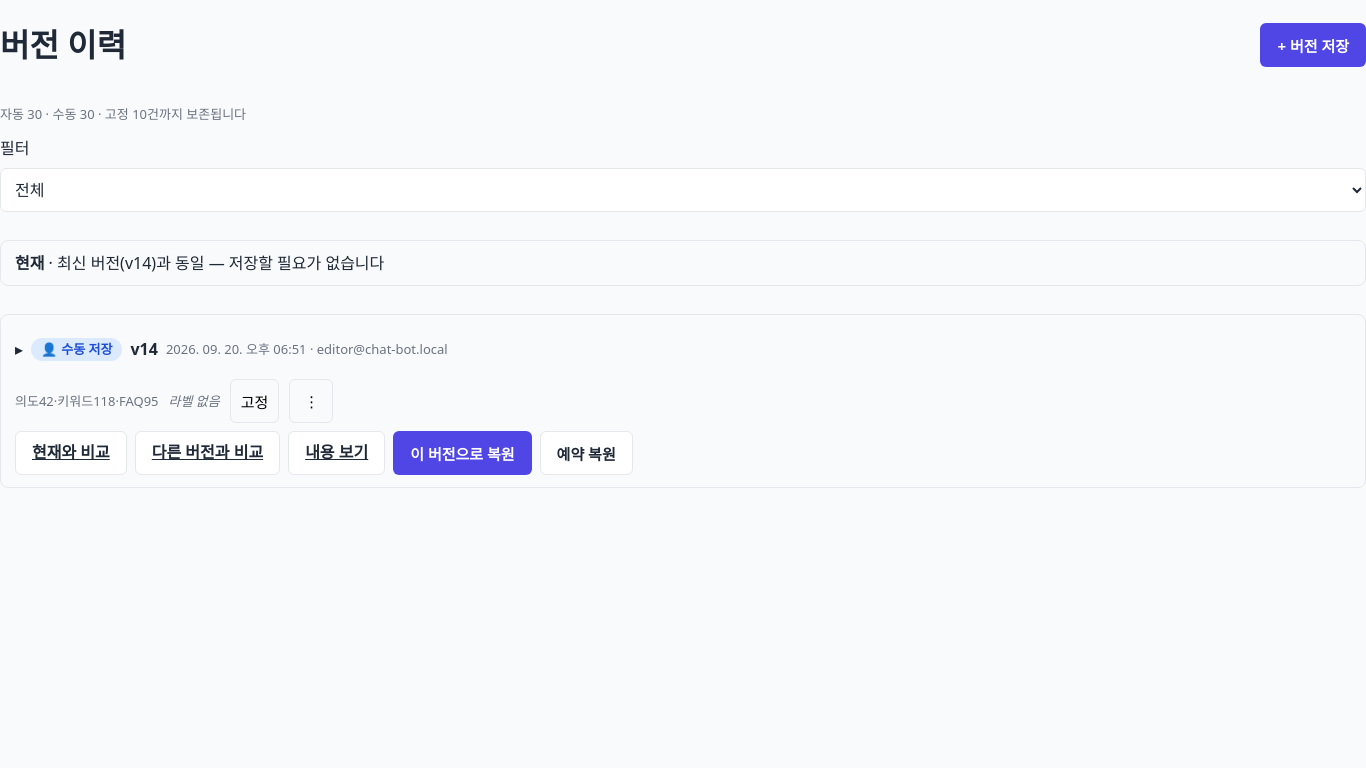
Test: VersionListPage › VERSION_REFERENCED_BY_SCHEDULE(409) — 삭제 시 참조 예약이 있으면 인라인 오류와 예약 배포 링크가 표시된다(No.28)
This screenshot has width=1366, height=768.
Expected: the text "v14" is shown, left=130, top=337, right=158, bottom=361
Click the button named "v14 관리" at (311, 401), box left=289, top=379, right=333, bottom=423
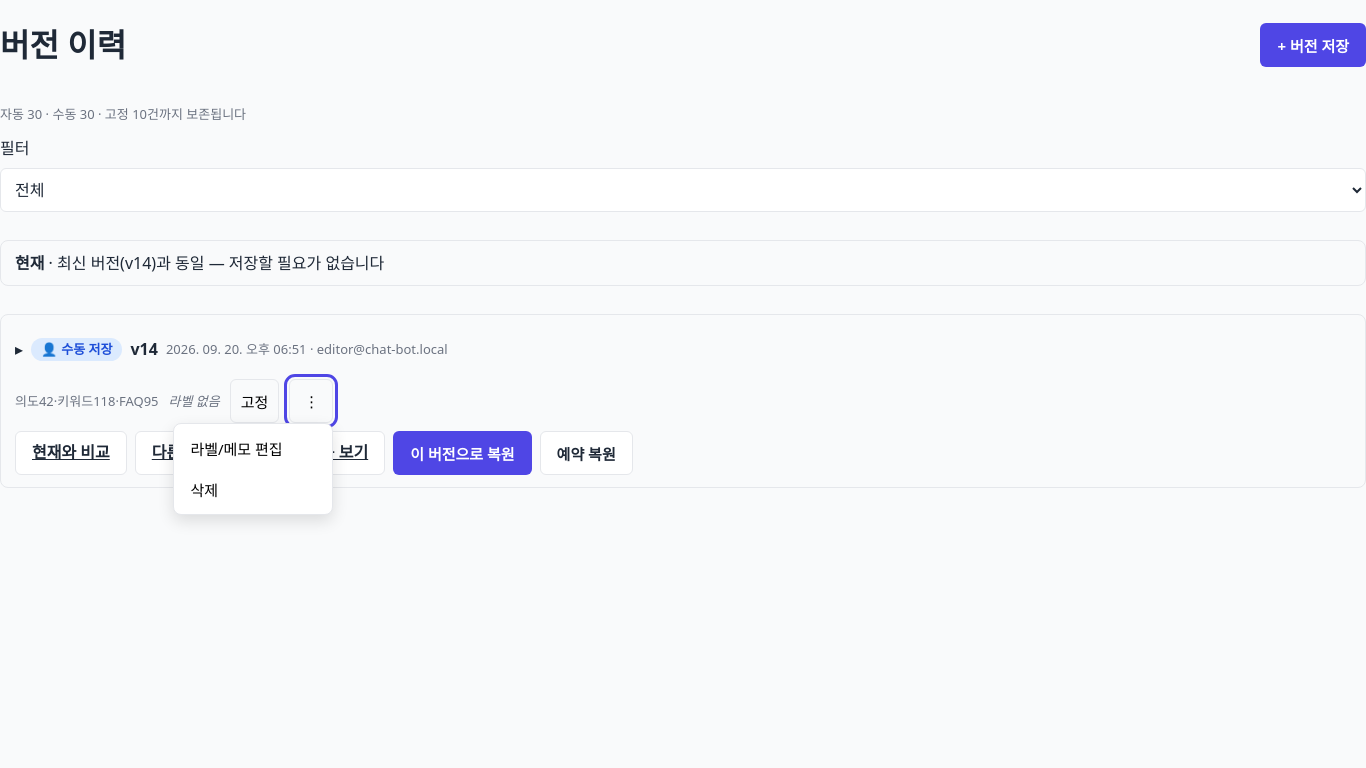
Click the menu item "삭제" at (253, 490), box left=178, top=469, right=328, bottom=510
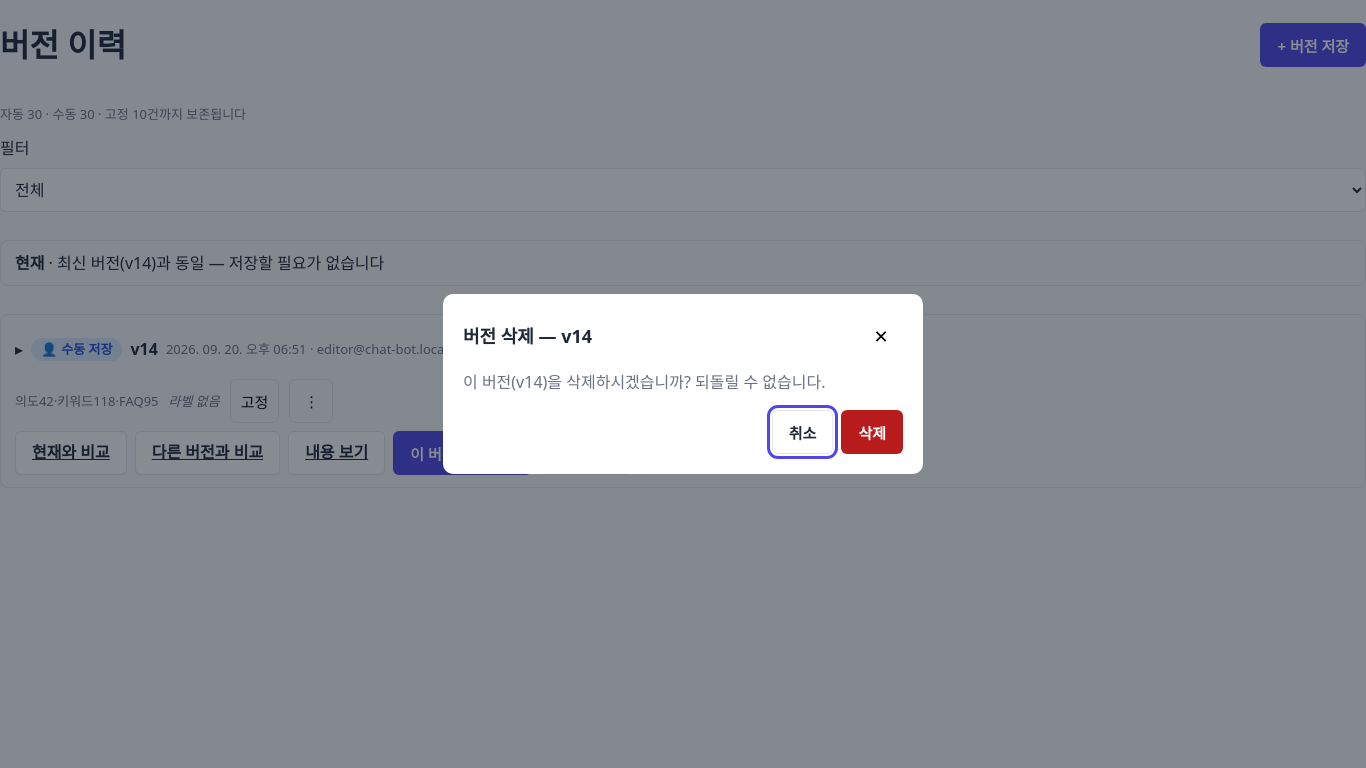
Click the button "삭제" at (872, 432), box left=841, top=410, right=903, bottom=454
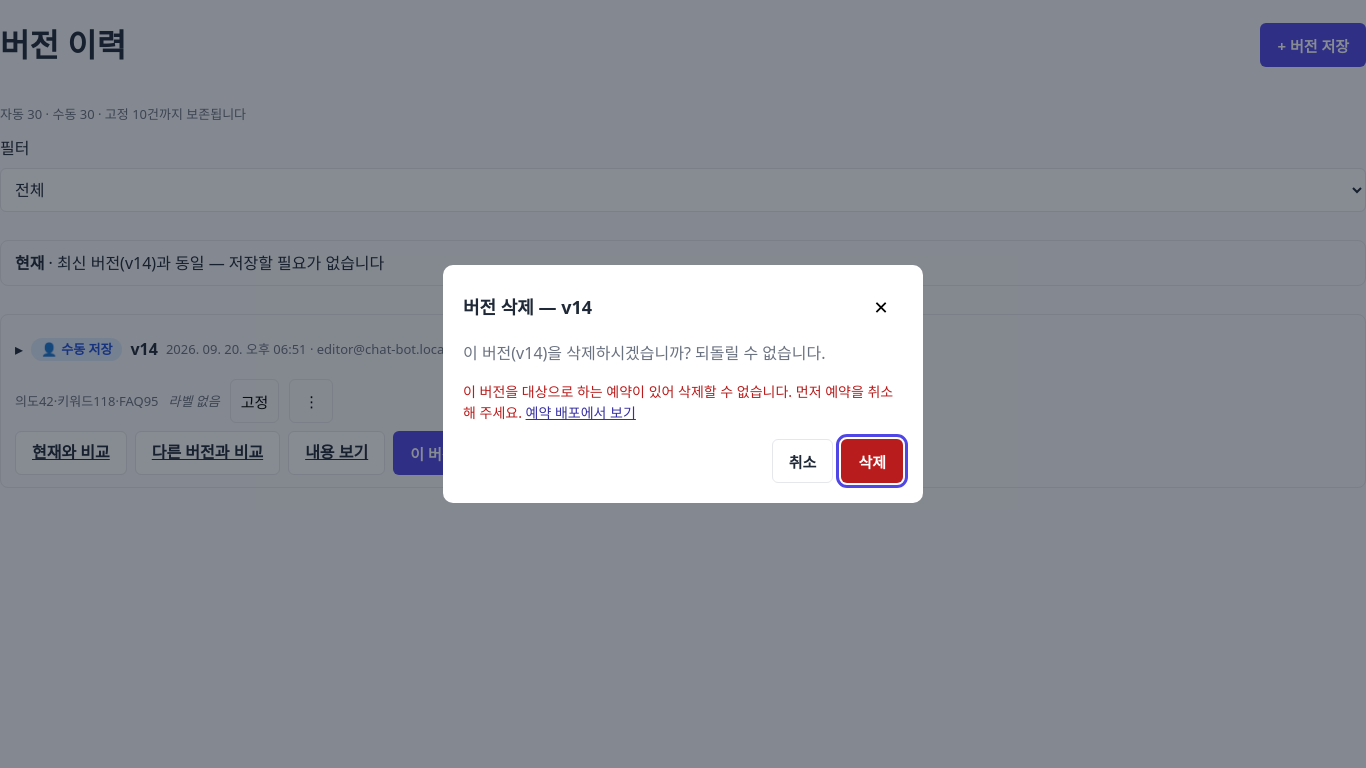
Now the text "이 버전을 대상으로 하는 예약이 있어 삭제할 수 없습니다. 먼저 예약을 취소해 주세요." is shown, box left=463, top=382, right=893, bottom=422
